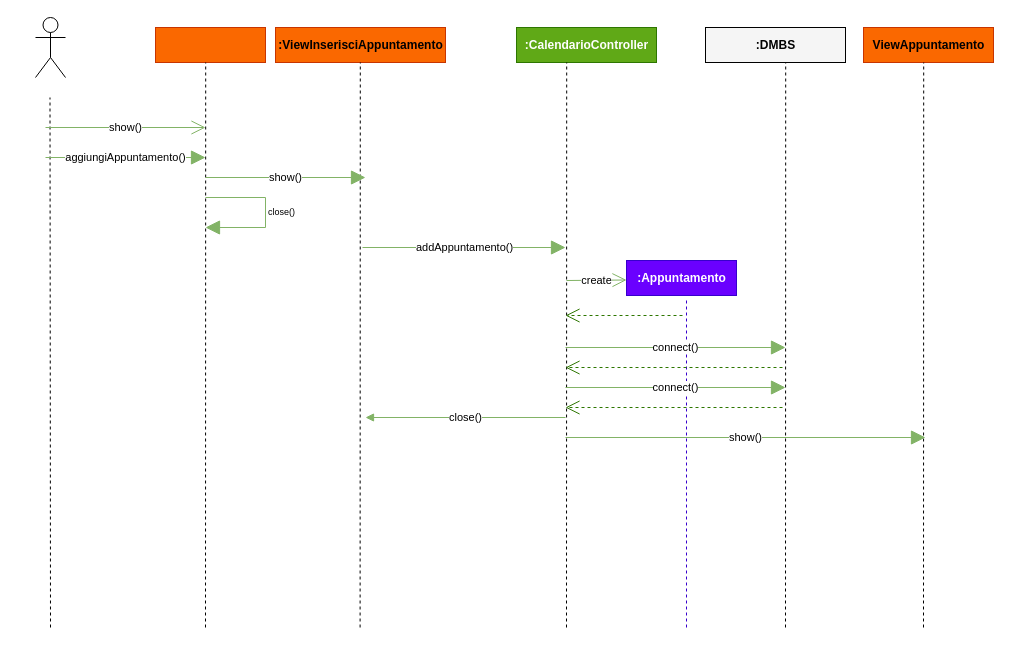
This 1011x646 diagram has some shape labels left out. The shapes that lost their labels are listed below. From the top down, each one's centre as x and y in pixels, then its label:
At pixel 50 47: "Nutrizionista".
At pixel 210 44: ":ViewCalendario".
